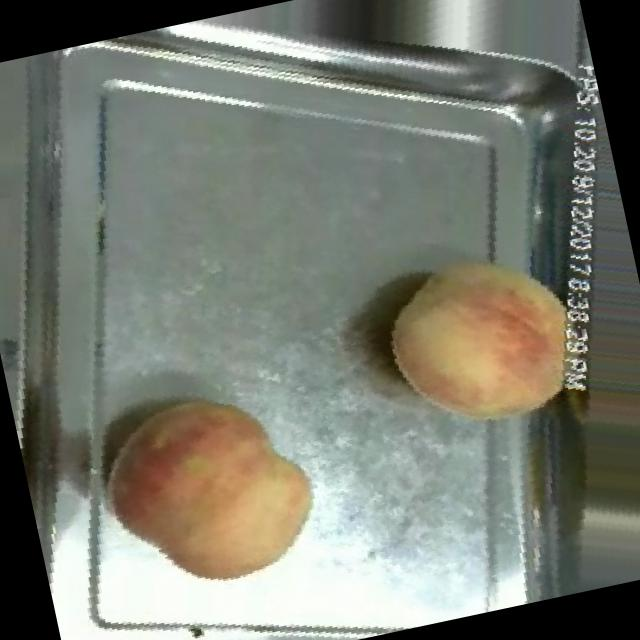Fruit: (62, 344, 354, 628), (347, 207, 618, 470)
